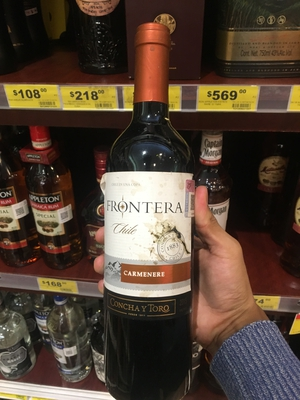frontera carmenere: (90, 28, 214, 387)
